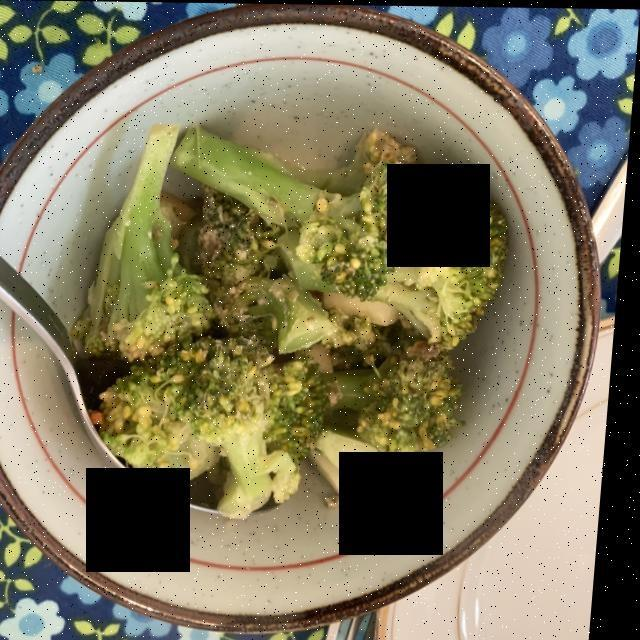broccoli: (93, 129, 501, 510)
